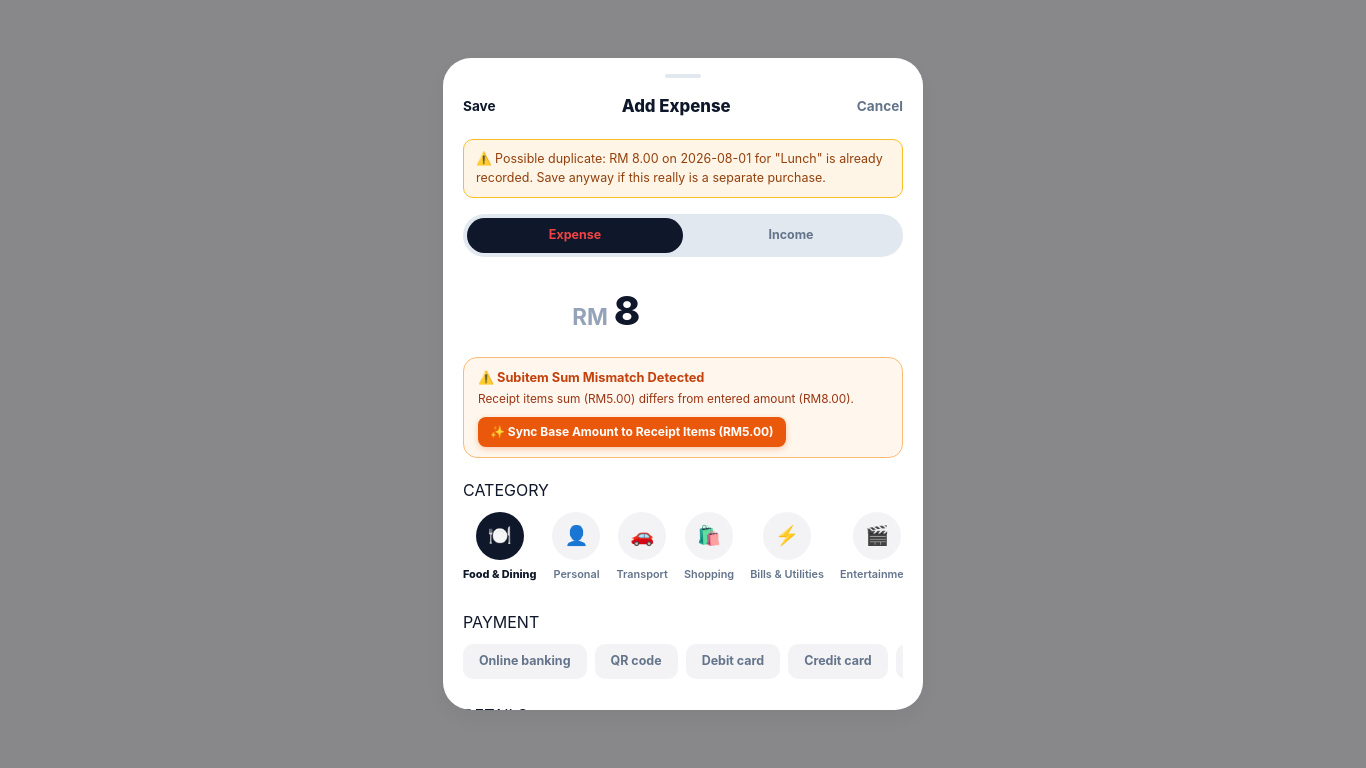
AddExpenseModal › warns about duplicates and lets the user sync a mismatched receipt total
Expected: the text "Possible duplicate" is shown, [476,151,883,184]
Click the button "✨ Sync Base Amount to Receipt Items (RM5.00)" at coordinates (632, 432), box [478,417,786,447]
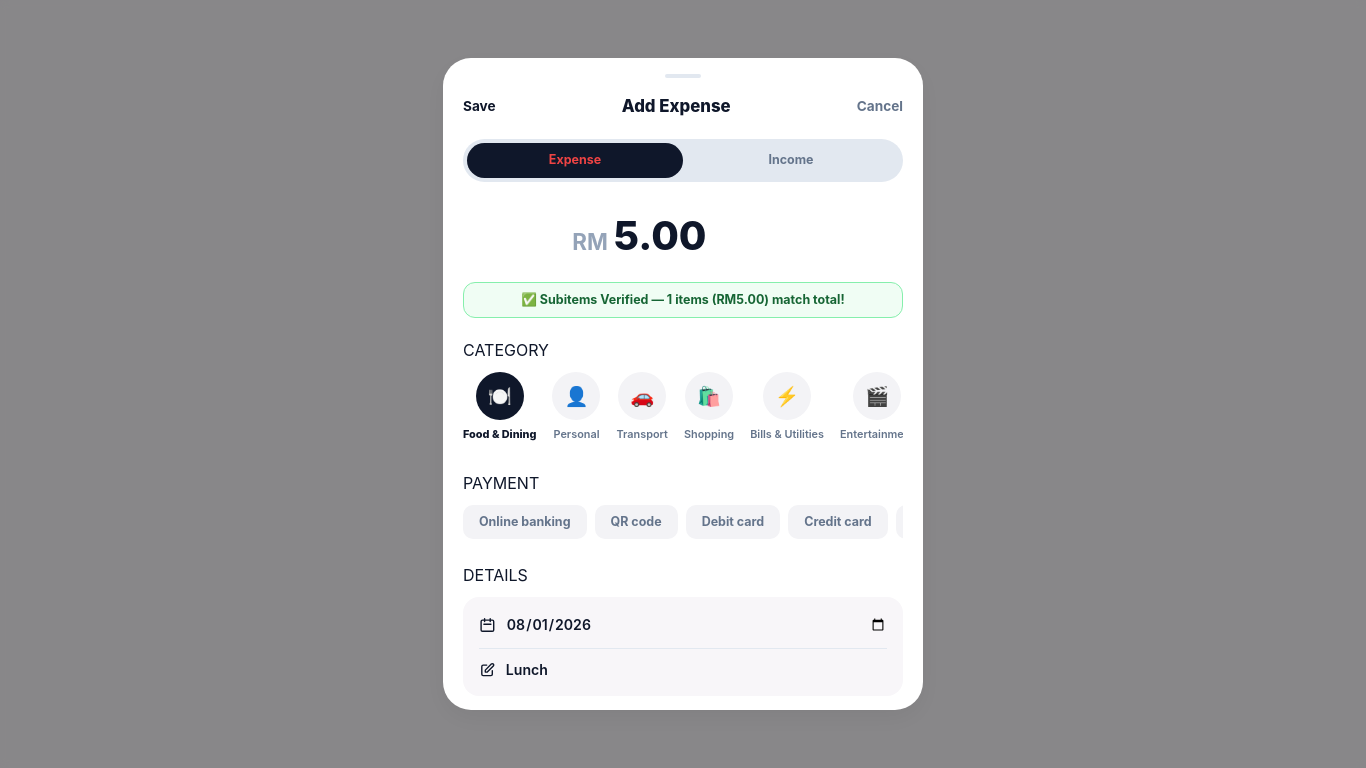
Result: the number field with placeholder "0.00" holds "5.00" at [614,206,794,266]
